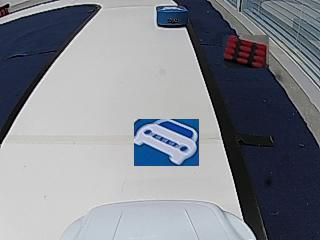prop: (157, 5, 188, 28)
